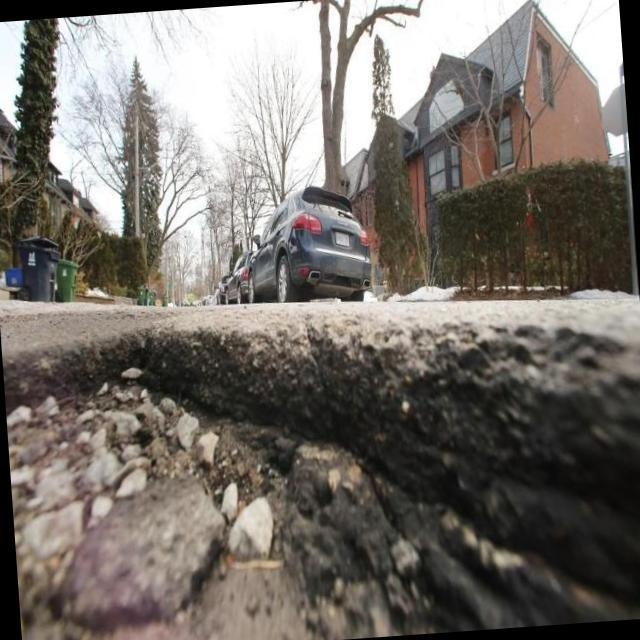Pothole: (6, 378, 640, 640)
